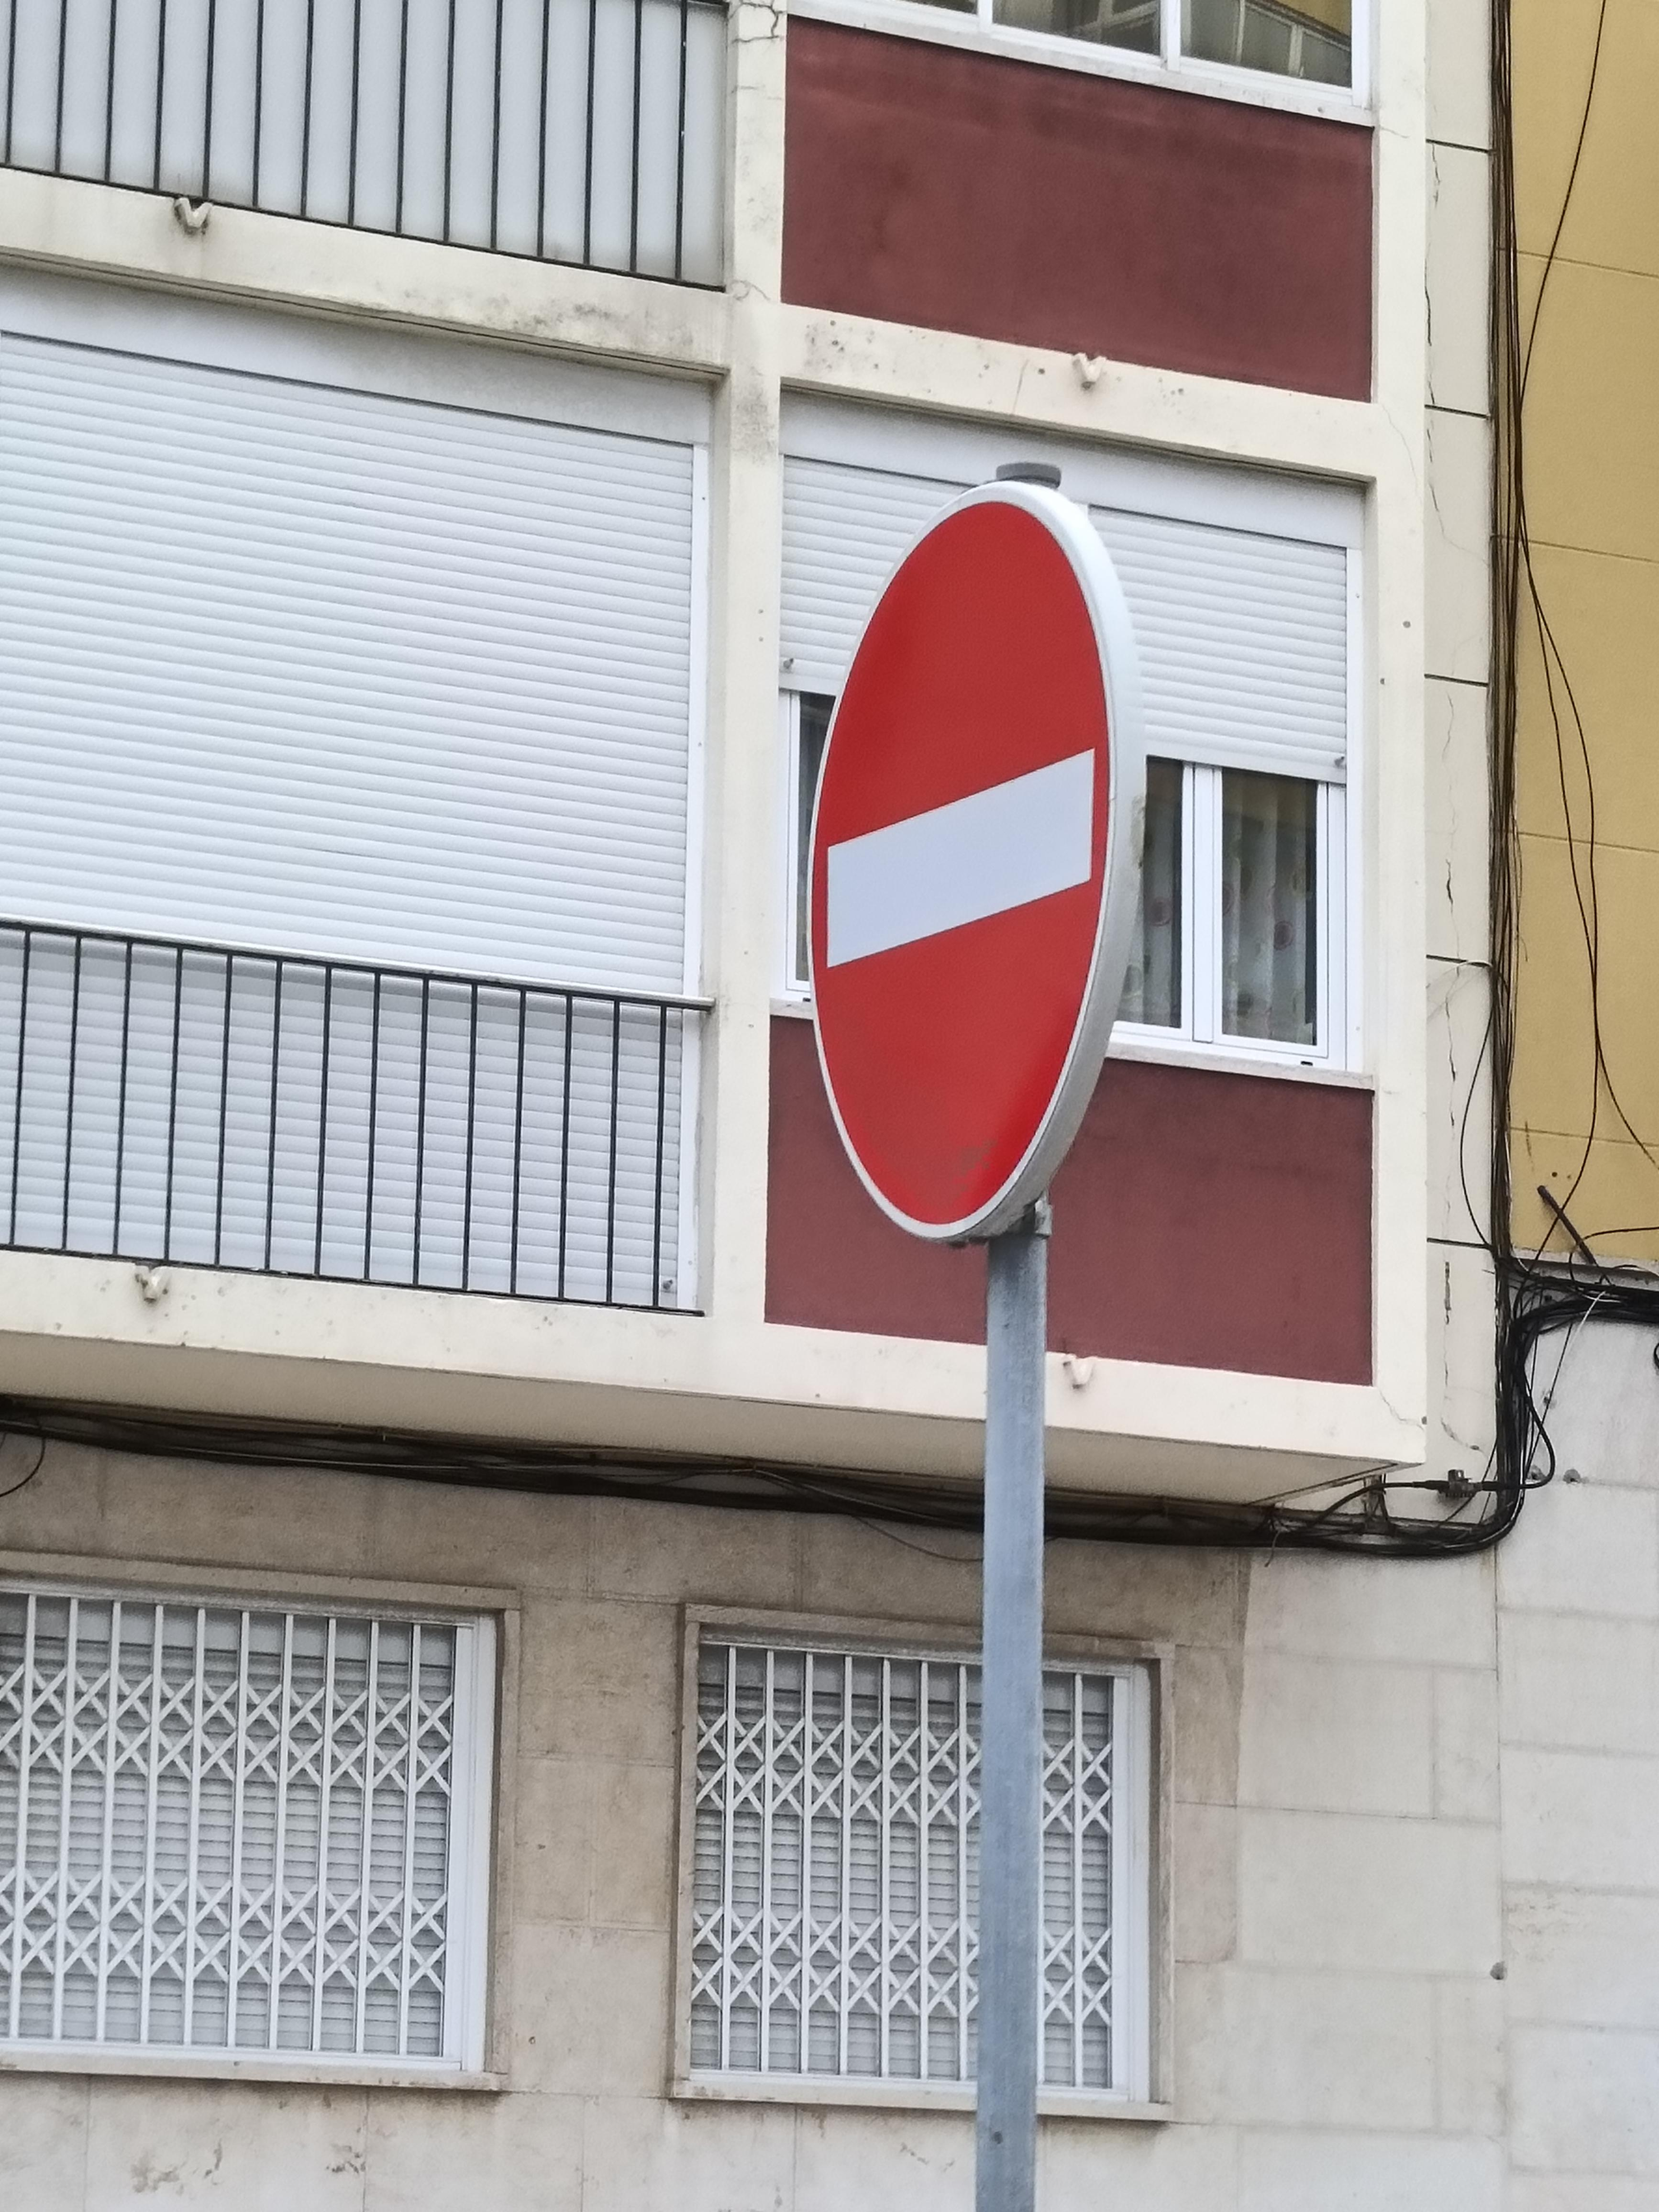Sentido proibido: (789, 421, 1129, 1320)
